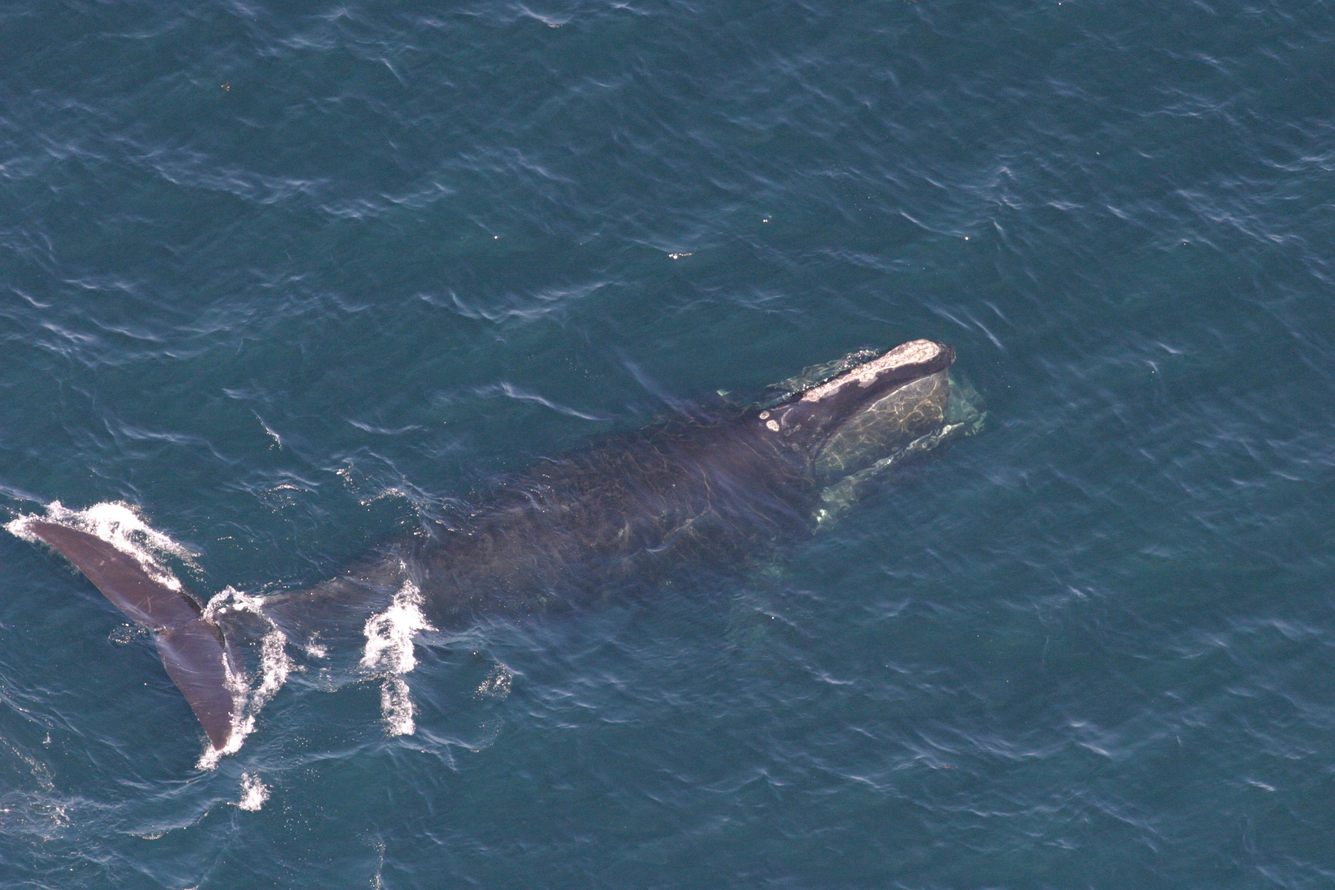whale: (12, 328, 997, 783)
